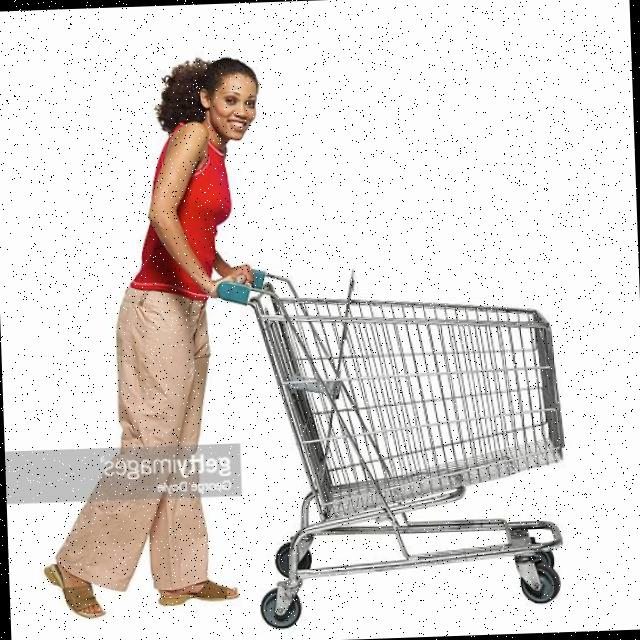Person: (25, 57, 276, 620)
